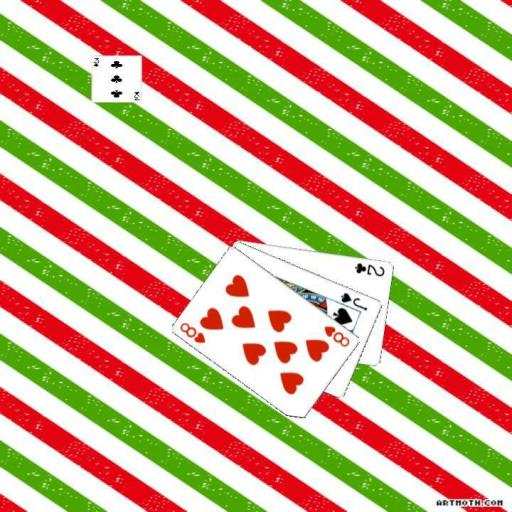card-corner: (177, 319, 207, 345), (322, 323, 352, 348), (338, 290, 369, 312), (352, 260, 386, 278)
